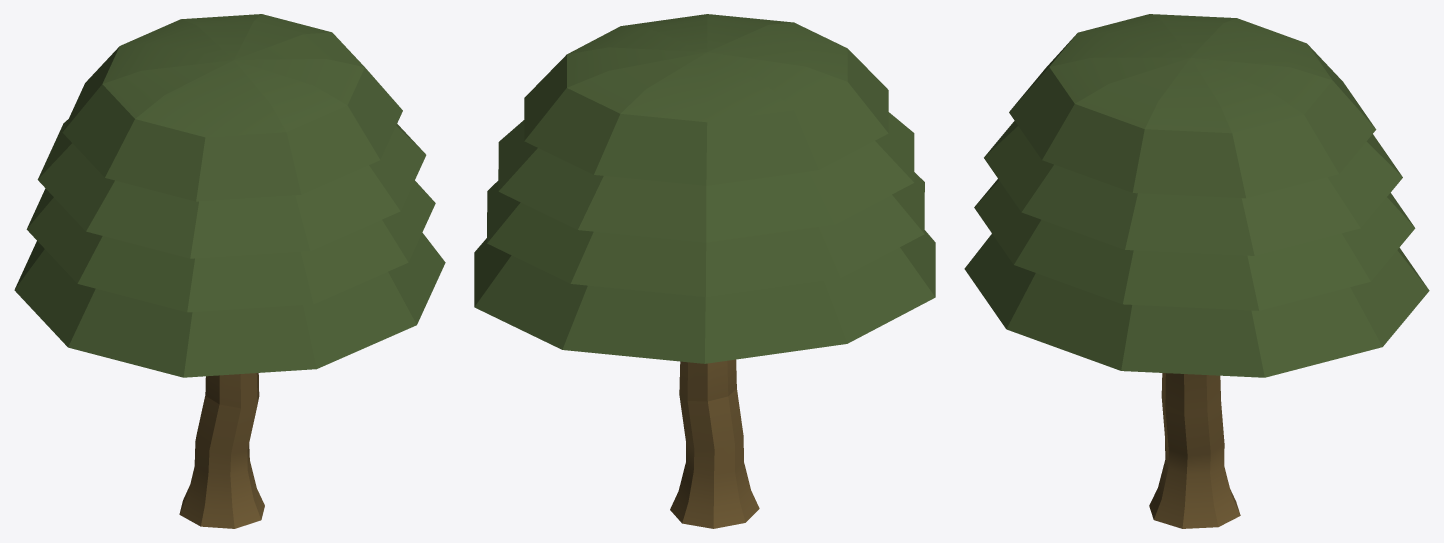
File: Proto_Tree_02.fbx
The picture shows the model from 3 angles, left to right: view 1: azimuth 30°, elevation 25°; view 2: azimuth 150°, elevation 25°; view 3: azimuth 270°, elevation 25°; orthographic projection.
Parts seen in each view (by area): view 1: polySurface1211; view 2: polySurface1211; view 3: polySurface1211.
Boxes of the visible parts, x1,y1,x2,y2 form: polySurface1211: [14, 14, 445, 528]; polySurface1211: [474, 14, 935, 528]; polySurface1211: [964, 14, 1429, 528].
Size of the model in its own units: 39.2 by 43.1 by 39.69.
